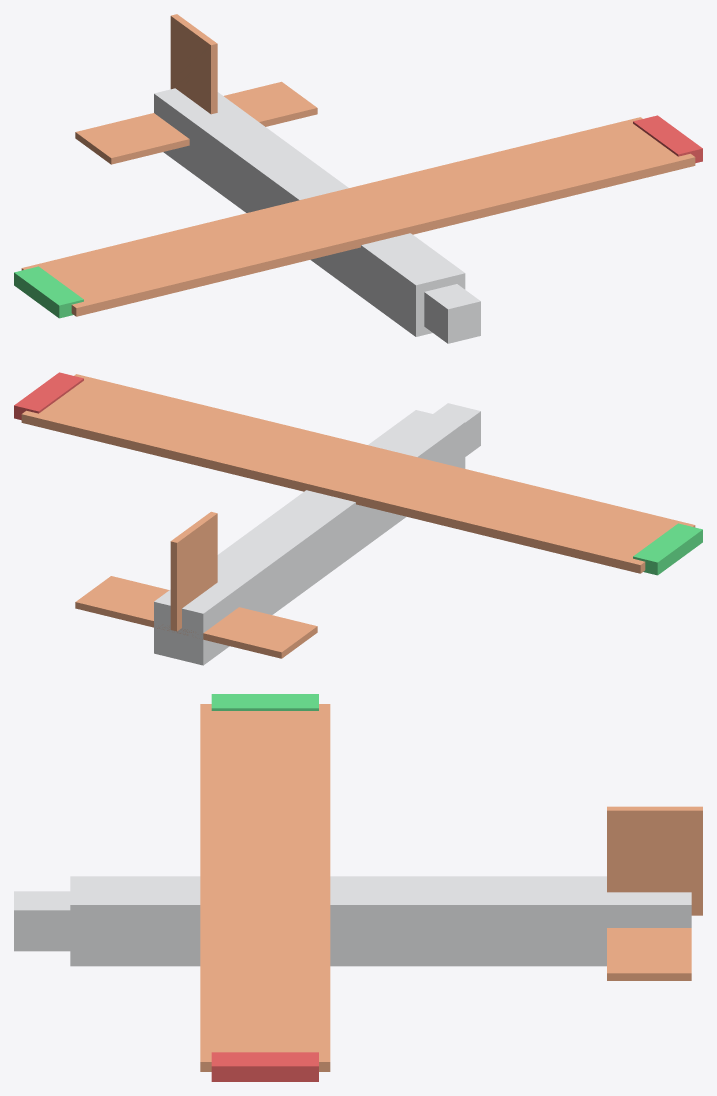
3 views of the same model, one above another, from view 1: azimuth 30°, elevation 25°; view 2: azimuth 150°, elevation 25°; view 3: azimuth 270°, elevation 25° (orthographic). The views are drawn at different scales.
Visible parts, largest first — view 1: aircraft; view 2: aircraft; view 3: aircraft.
Part boxes in pixels (x1,y1,x2,y2): aircraft: [14, 14, 702, 343]; aircraft: [14, 372, 702, 665]; aircraft: [14, 694, 702, 1081].
Size of the model in its own units: 1.56 by 0.28 by 1.22.
